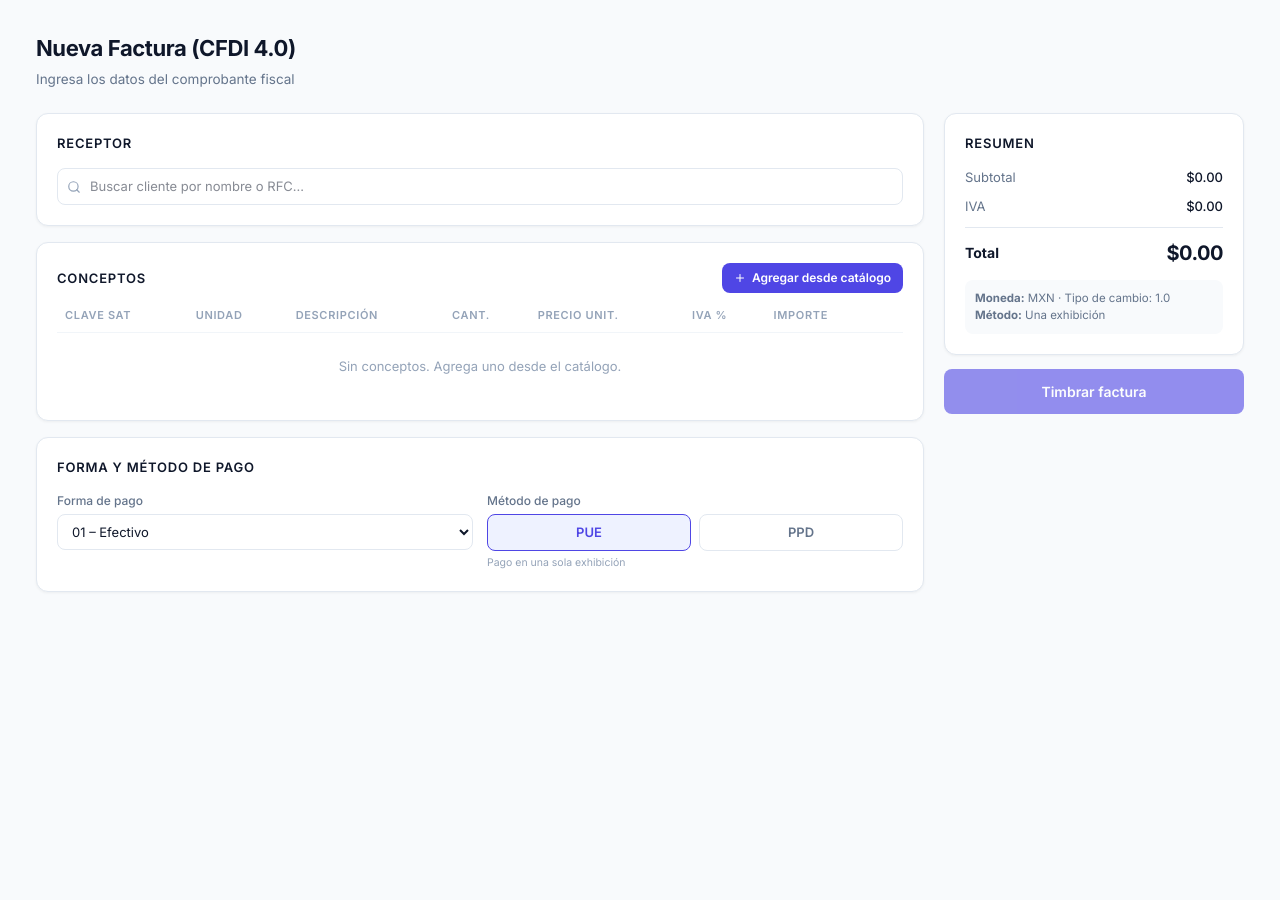
Test: NuevaFactura - conceptos desde catálogo › envía claveUnidad, formaPago y metodoPago en el body de POST /api/facturas
This screenshot has width=1280, height=900.
Type "Cliente" into the field with placeholder "Buscar cliente por nombre o RFC..." at (480, 187), box top-left (57, 168), bottom-right (903, 205)
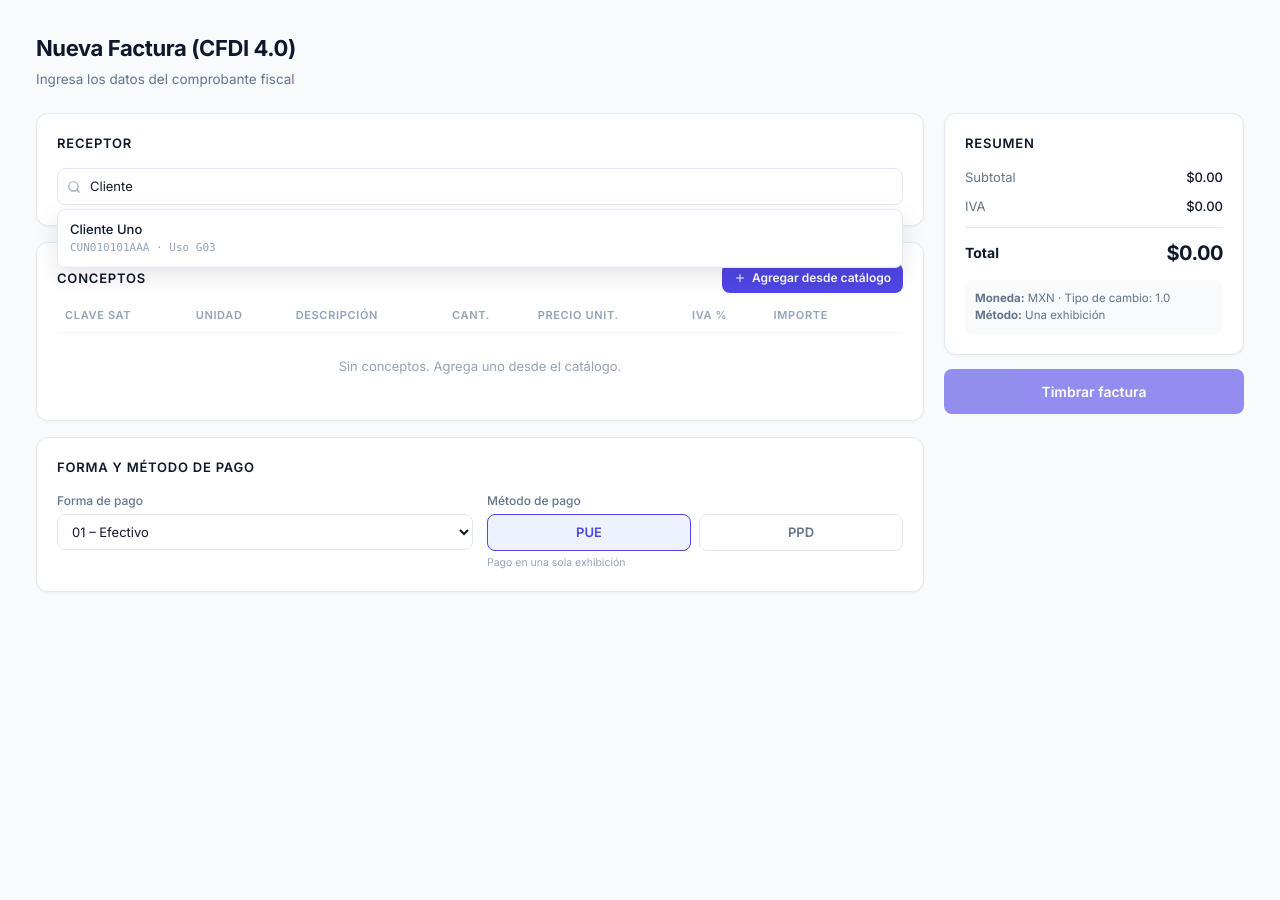
Click the text "Cliente Uno" at (106, 229), box top-left (70, 221), bottom-right (142, 237)
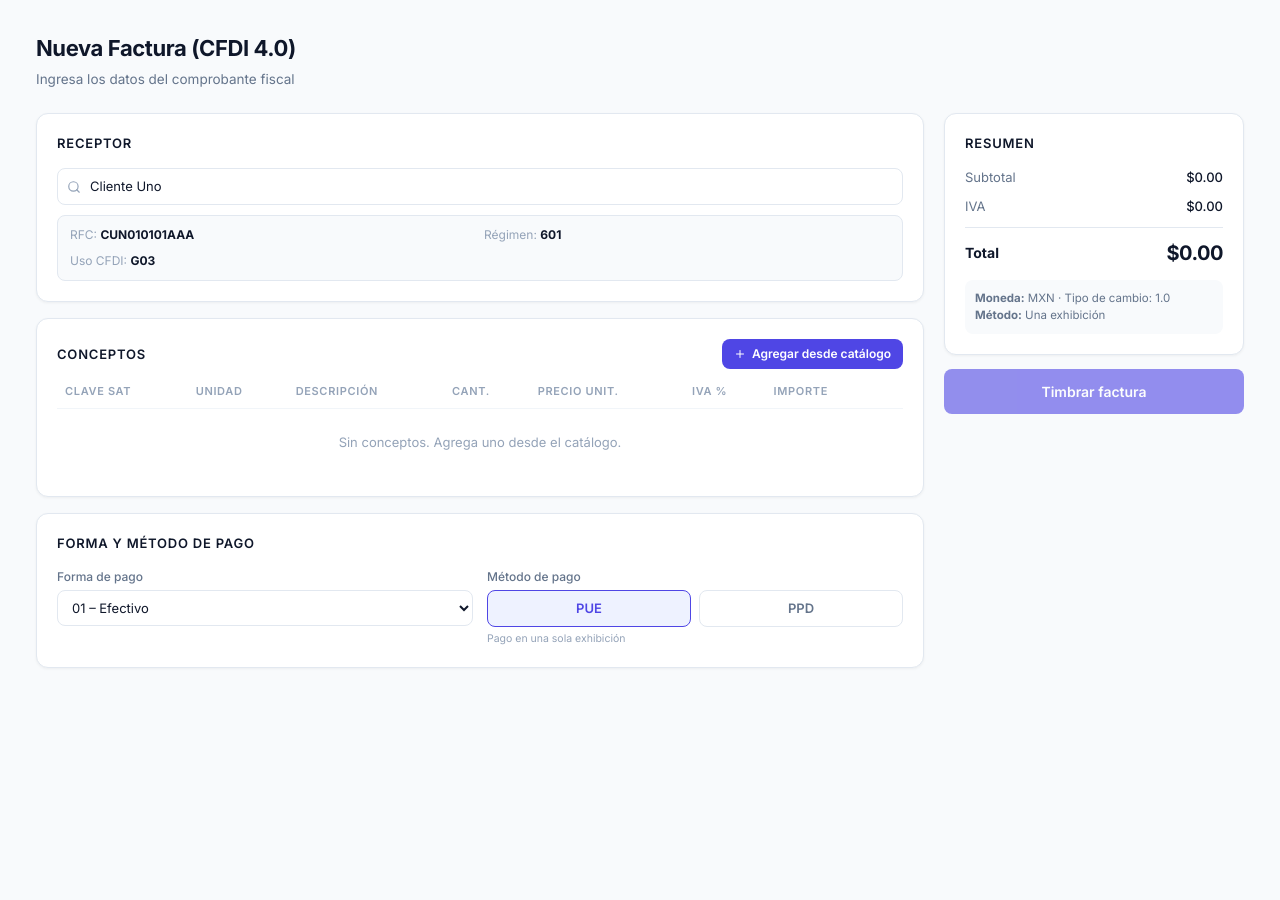
Click the button "Agregar desde catálogo" at (812, 354), box top-left (722, 339), bottom-right (903, 369)
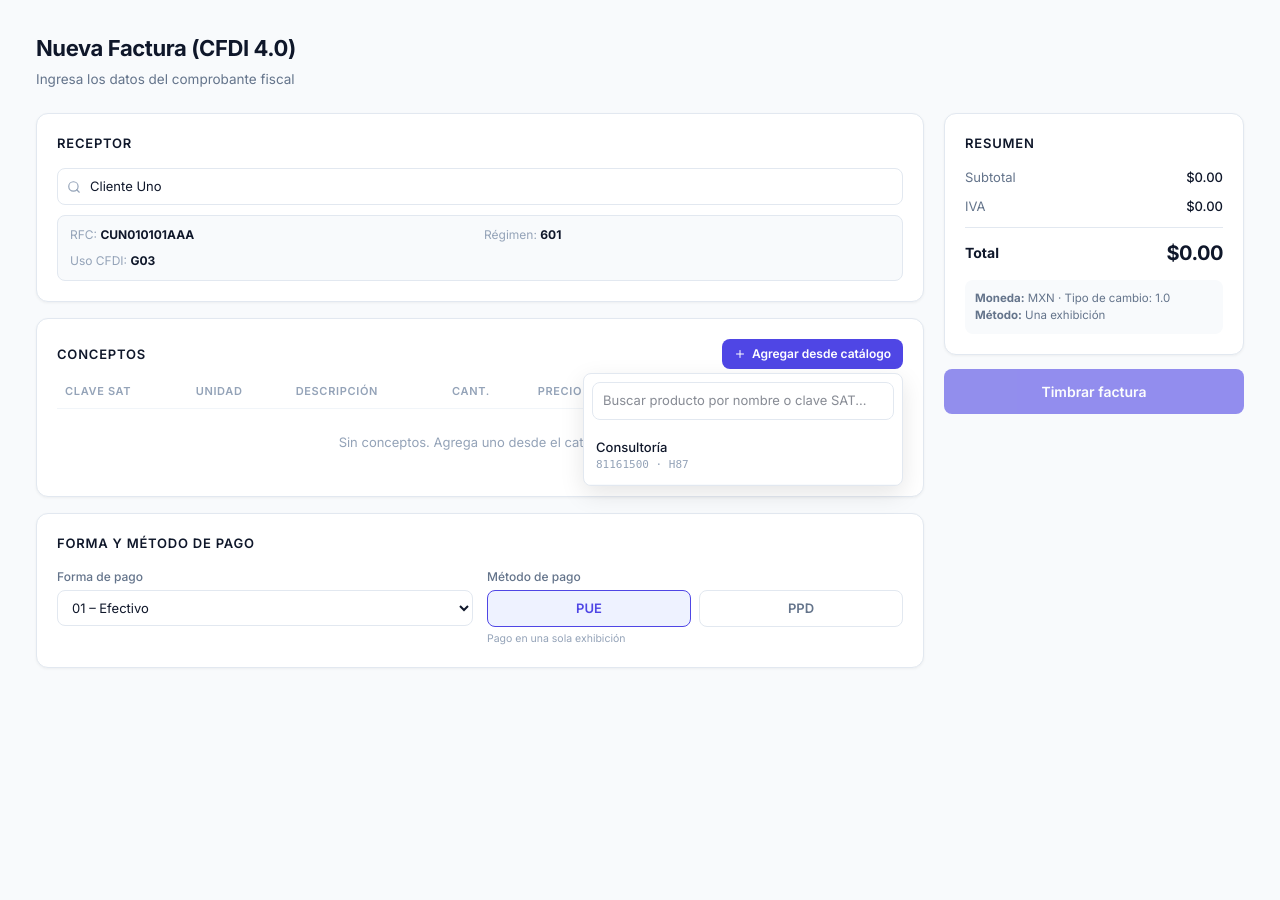
Click the text "Consultoría" at (632, 447), box top-left (596, 439), bottom-right (667, 455)
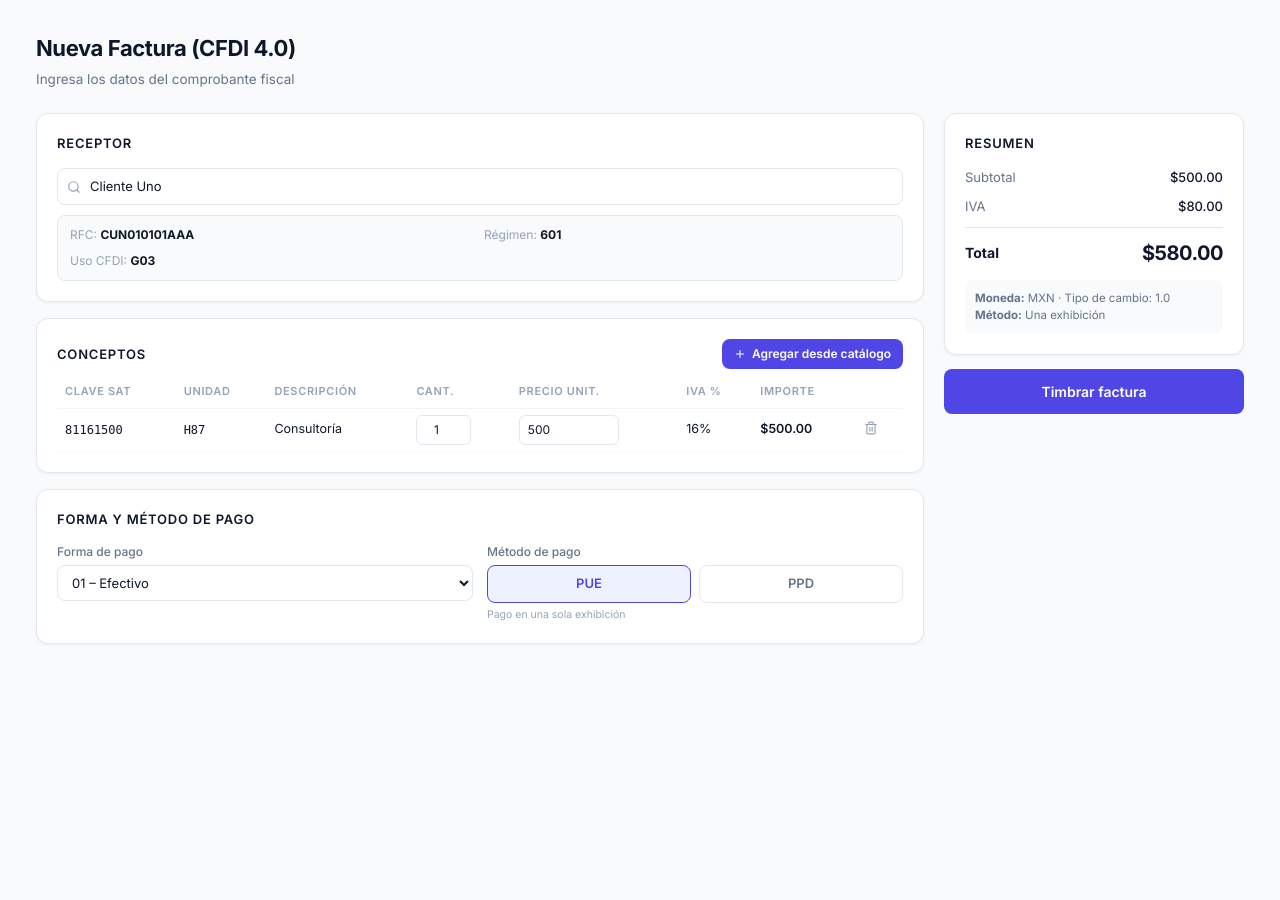
Click the button "Timbrar factura" at (1094, 392), box top-left (944, 369), bottom-right (1244, 414)
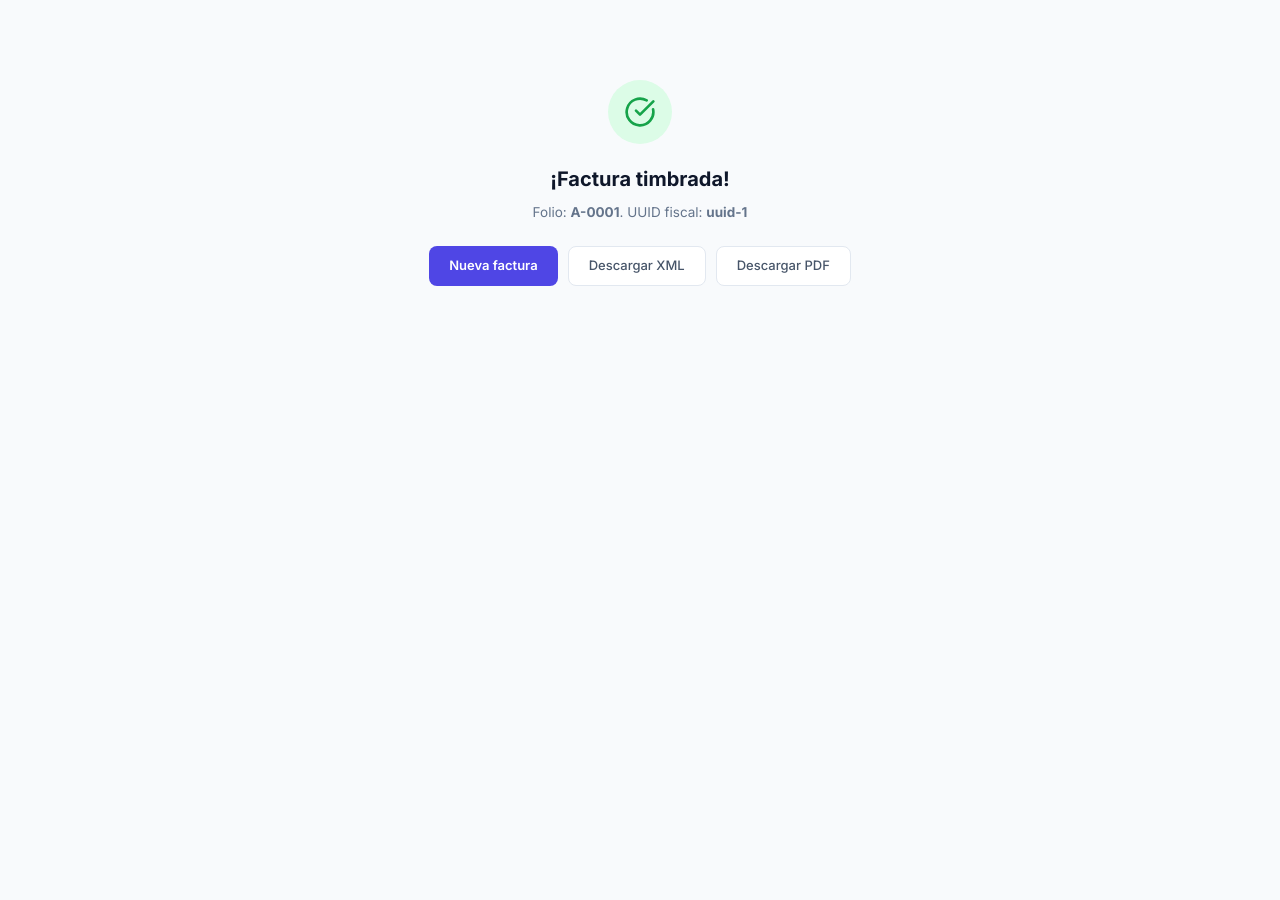
Now the text "uuid-1" is shown, box top-left (706, 204), bottom-right (747, 220)
